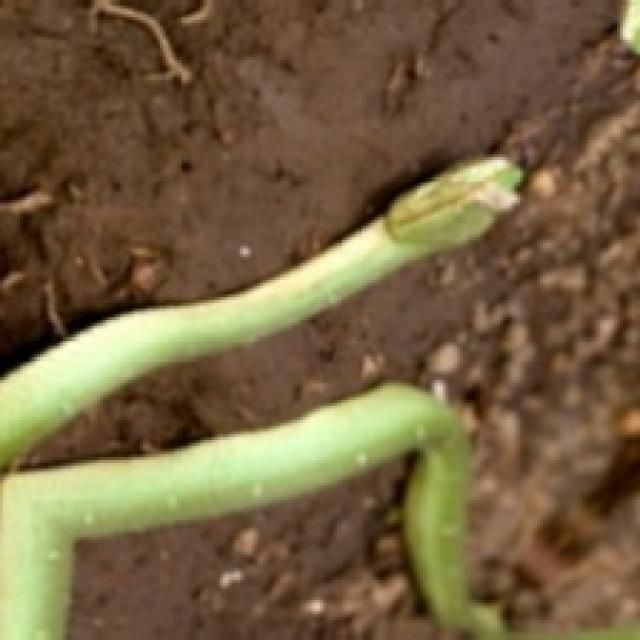north ph temple pitviper: (0, 157, 520, 463), (0, 383, 503, 637)
